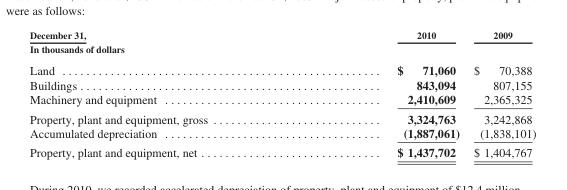table: (29, 28, 535, 158)
table column: (29, 28, 301, 158), (301, 28, 466, 158), (466, 28, 535, 158)
table column header: (29, 28, 535, 41)
table projected row header: (29, 41, 535, 58)
table row: (29, 58, 535, 77), (29, 41, 535, 58), (29, 91, 535, 108), (29, 108, 535, 125), (29, 125, 535, 142), (29, 142, 535, 158), (29, 77, 535, 91), (29, 28, 535, 41)
